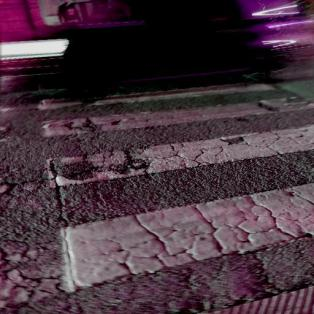Paso de Cebra: (40, 93, 314, 191)
